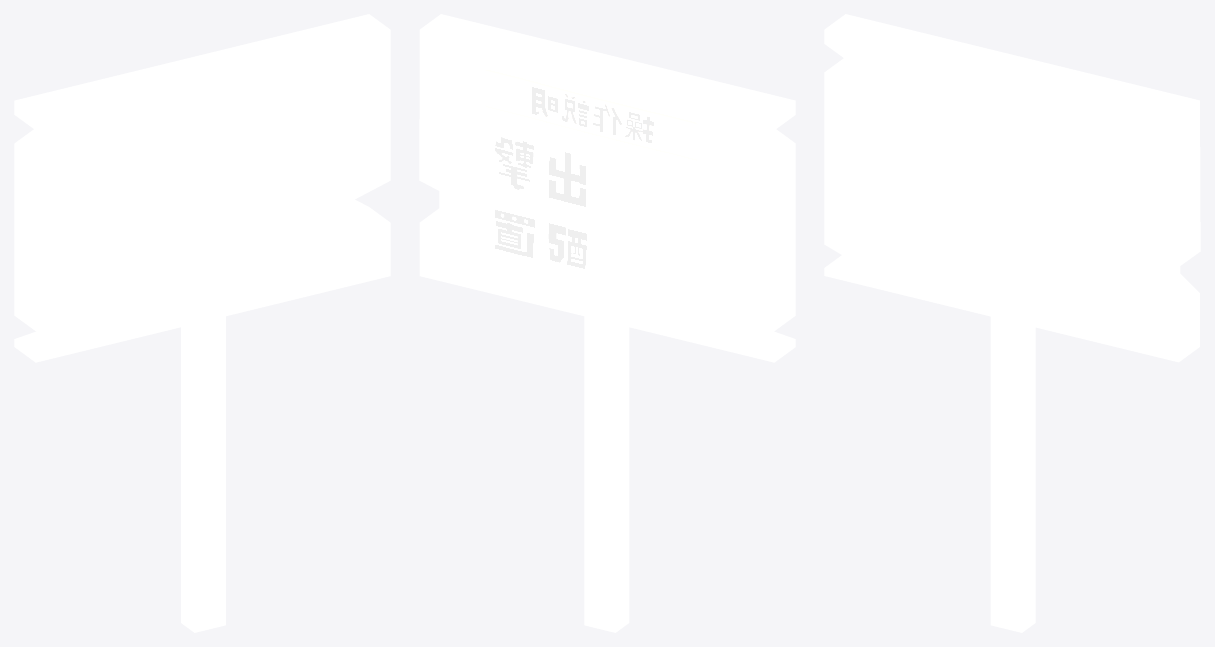
The model's file is board.gltf.
3 renders of one model, left to right at view 1: azimuth 30°, elevation 25°; view 2: azimuth 150°, elevation 25°; view 3: azimuth 330°, elevation 25°, orthographic.
Visible parts, largest first — view 1: Mesh; view 2: Mesh; view 3: Mesh.
Part boxes in pixels (x1=…): Mesh: x1=14, y1=14, x2=390, y2=632; Mesh: x1=419, y1=14, x2=795, y2=632; Mesh: x1=824, y1=14, x2=1200, y2=632.
Bounding box in the file's own units: 6.68 × 10.06 × 0.7603.
Materials: 1 (1 with a texture image).
